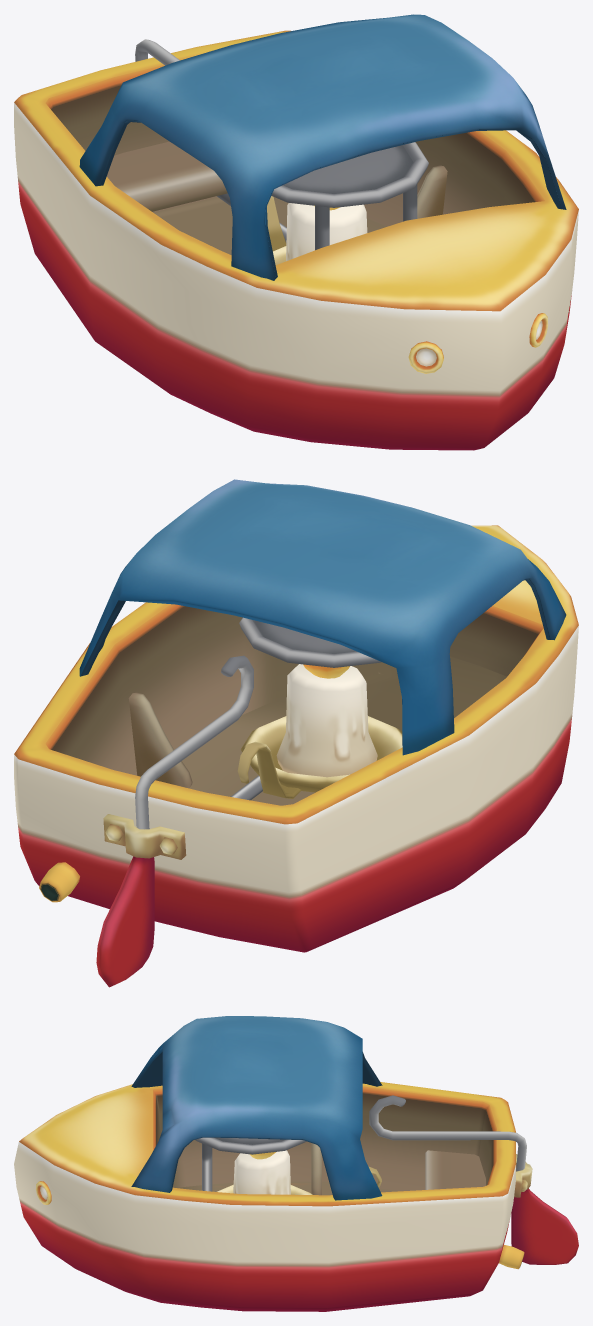
File: 3d_daily_ghibli.glb
The picture shows the model from 3 angles, top to bottom: view 1: azimuth 30°, elevation 25°; view 2: azimuth 150°, elevation 25°; view 3: azimuth 270°, elevation 25°; orthographic projection. The views are drawn at different scales.
Visible parts, largest first — view 1: Ghibli:pPlane46; view 2: Ghibli:pPlane46; view 3: Ghibli:pPlane46.
Part boxes in pixels (left/top/right/bottom): Ghibli:pPlane46: left=14, top=14, right=578, bottom=450; Ghibli:pPlane46: left=14, top=479, right=578, bottom=987; Ghibli:pPlane46: left=14, top=1016, right=578, bottom=1311.
Size of the model in its own units: 18.74 by 14.03 by 34.46.
1 material, 1 textured.
